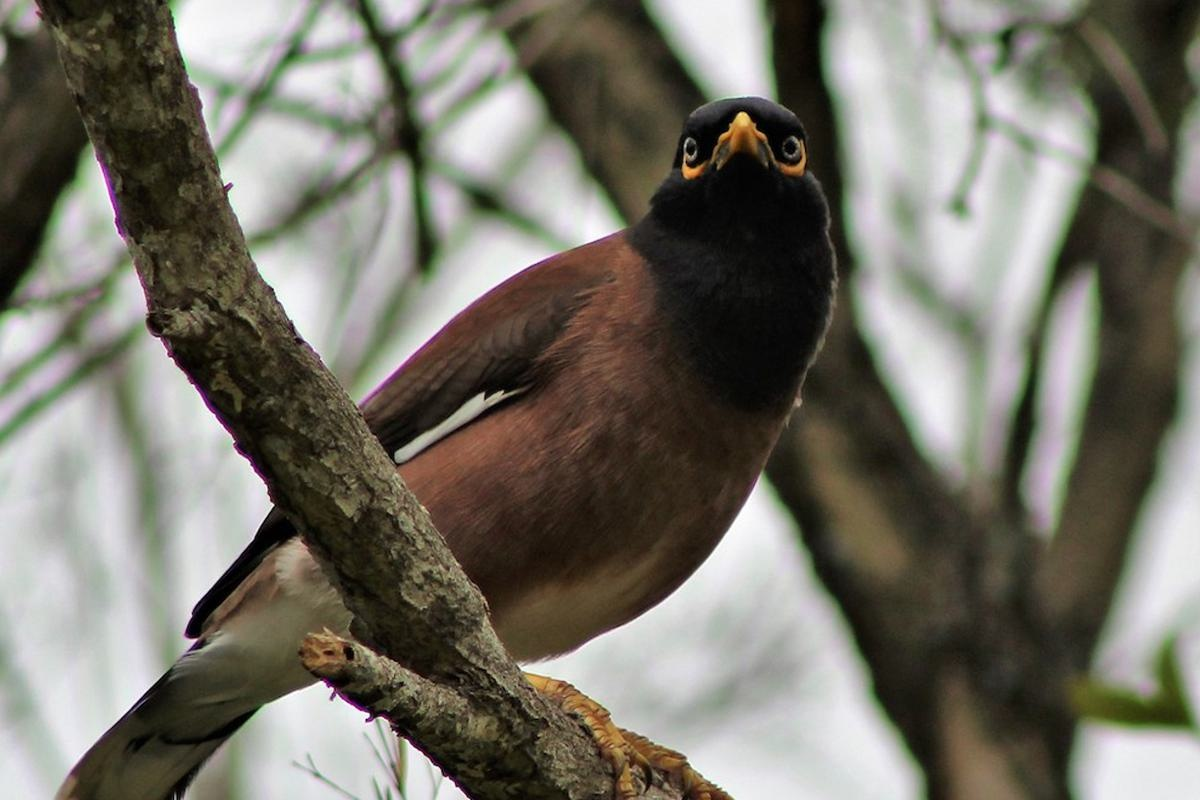myna: (154, 91, 881, 747)
